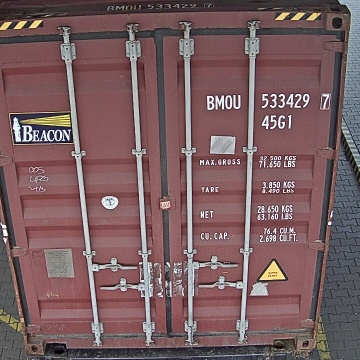serial_id: (207, 93, 330, 110)
